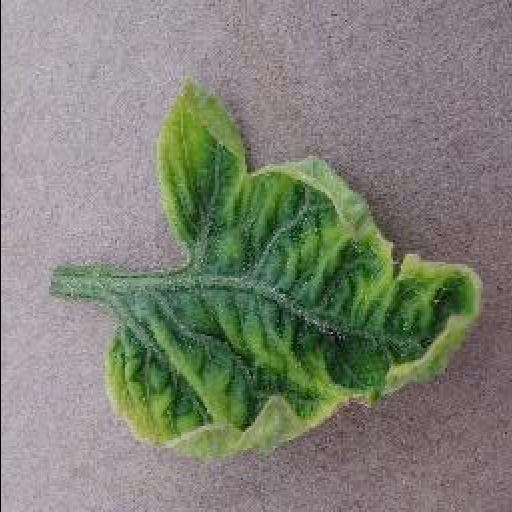disease_tomato: (106, 74, 486, 456)
